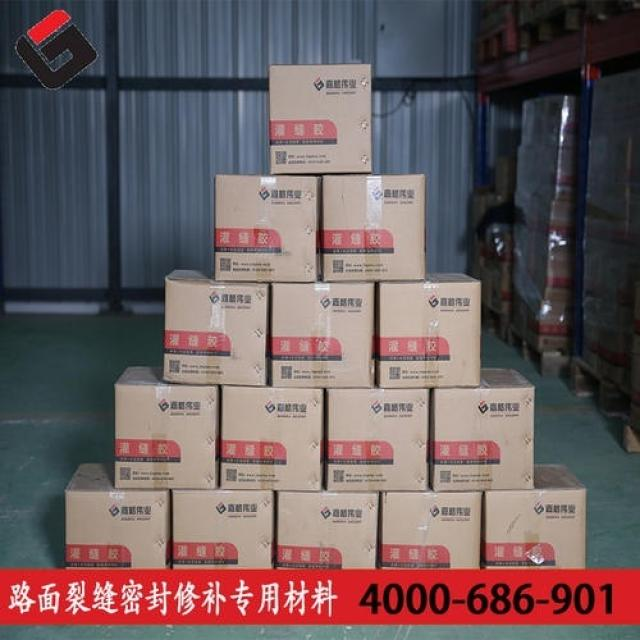box: (430, 367, 536, 492), (114, 365, 220, 489), (163, 269, 270, 387), (374, 271, 481, 388), (64, 461, 172, 571), (214, 173, 321, 282), (324, 383, 431, 492), (269, 280, 375, 388), (220, 383, 325, 492), (320, 173, 426, 280), (270, 63, 372, 174), (483, 462, 588, 568), (379, 484, 485, 570), (275, 485, 381, 570), (170, 486, 275, 570), (581, 293, 631, 381), (584, 237, 639, 302), (516, 145, 579, 200), (584, 182, 639, 244), (591, 70, 639, 137), (525, 224, 575, 288), (521, 96, 577, 147), (588, 133, 639, 183), (516, 191, 579, 230), (526, 288, 575, 335), (628, 282, 640, 403), (493, 261, 512, 314), (481, 269, 493, 303)
